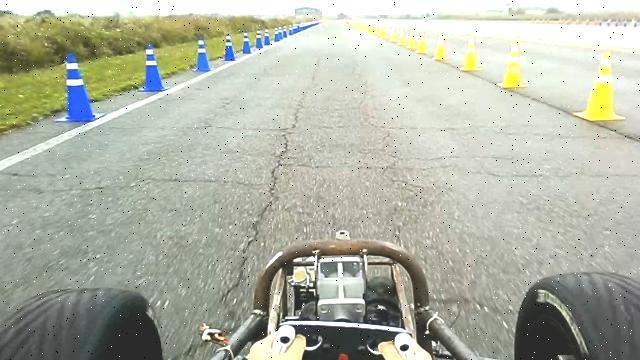blue cone: (54, 52, 104, 122), (137, 42, 169, 92), (192, 34, 212, 72), (222, 33, 236, 61), (240, 31, 252, 54), (255, 29, 264, 49), (263, 28, 271, 46)
yellow cone: (573, 50, 625, 121), (497, 40, 526, 89), (460, 34, 480, 72), (432, 31, 448, 61), (415, 30, 427, 54), (406, 27, 416, 49), (397, 27, 406, 46), (389, 26, 397, 42)
